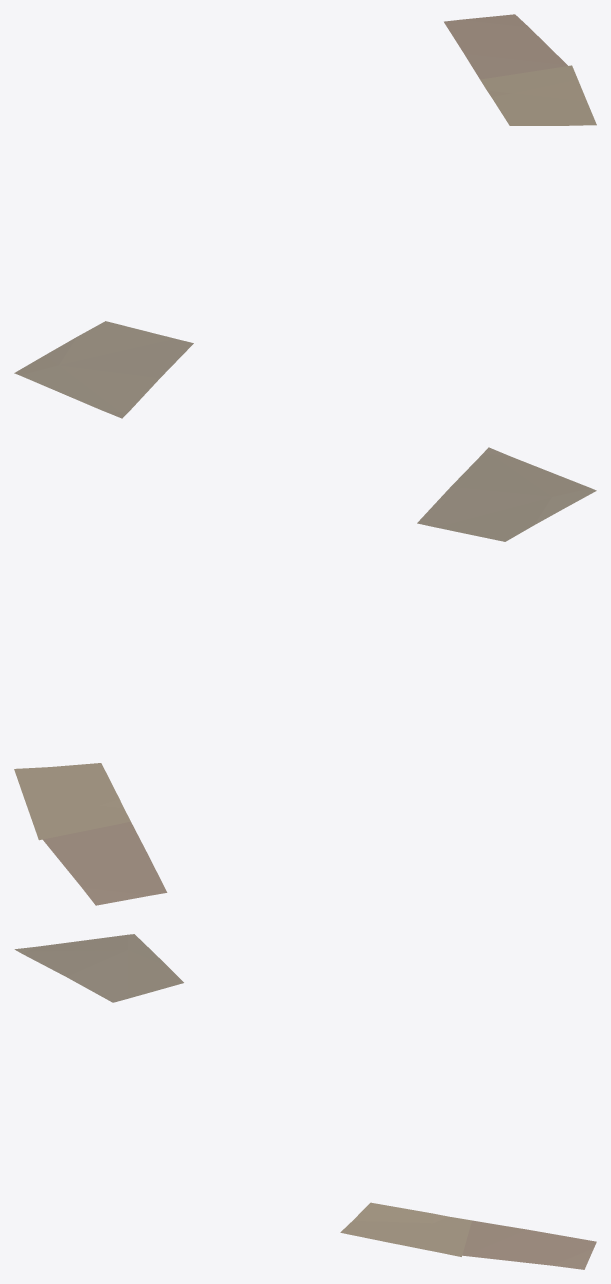
The model's file is farm_21_25_soil.glb.
3 views of the same model, one above another, from view 1: azimuth 30°, elevation 25°; view 2: azimuth 210°, elevation 25°; view 3: azimuth 270°, elevation 25° (orthographic). The views are drawn at different scales.
Visible parts, largest first — view 1: geometry_0; view 2: geometry_0; view 3: geometry_0.
Boxes of the visible parts, box(x1,y1,x2,y2) form: geometry_0: box(14, 14, 596, 418); geometry_0: box(14, 447, 596, 905); geometry_0: box(14, 934, 596, 1269).
Bounding box in the file's own units: 582 × 20.76 × 458.
